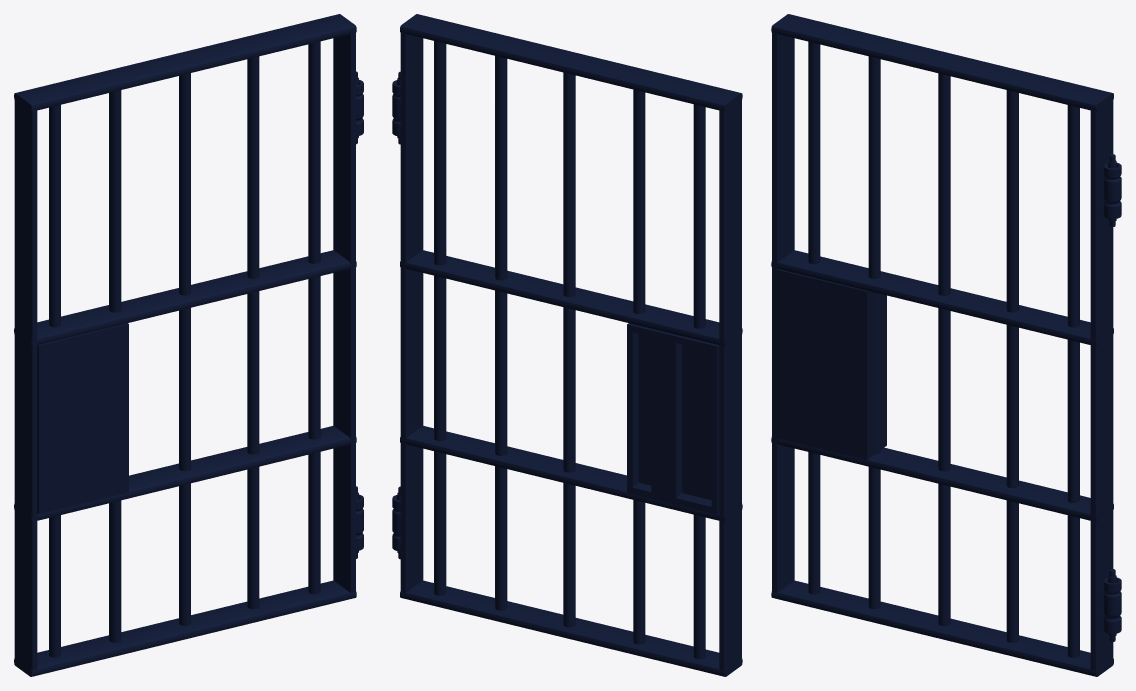
Rendered from Jail_door.fbx.
3 renders of one model, left to right at view 1: azimuth 30°, elevation 25°; view 2: azimuth 150°, elevation 25°; view 3: azimuth 330°, elevation 25°, orthographic.
Parts seen in each view (by area): view 1: jail_door; view 2: jail_door; view 3: jail_door.
Part boxes in pixels (x1,y1,x2,y2): jail_door: (14, 14, 363, 676); jail_door: (392, 14, 742, 676); jail_door: (771, 14, 1121, 676).
Size of the model in its own units: 138 by 222 by 13.94.
